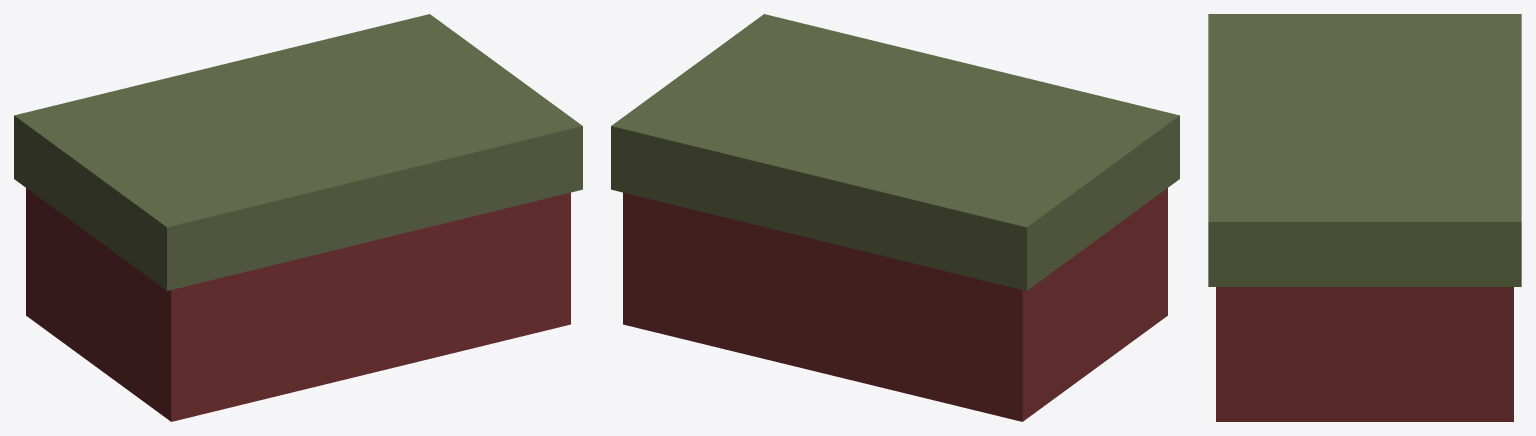
File: SM_Prop_ShoeBox_04.glb
3 renders of one model, left to right at view 1: azimuth 30°, elevation 25°; view 2: azimuth 150°, elevation 25°; view 3: azimuth 270°, elevation 25°, orthographic. The views are drawn at different scales.
Parts seen in each view (by area): view 1: SM_Prop_ShoeBox_04; view 2: SM_Prop_ShoeBox_04; view 3: SM_Prop_ShoeBox_04.
Boxes of the visible parts, x1,y1,x2,y2 form: SM_Prop_ShoeBox_04: (14, 14, 582, 421); SM_Prop_ShoeBox_04: (611, 14, 1179, 421); SM_Prop_ShoeBox_04: (1208, 14, 1521, 421).
Bounding box in the file's own units: 0.2893 × 0.1325 × 0.1845.
1 material, 1 textured.
